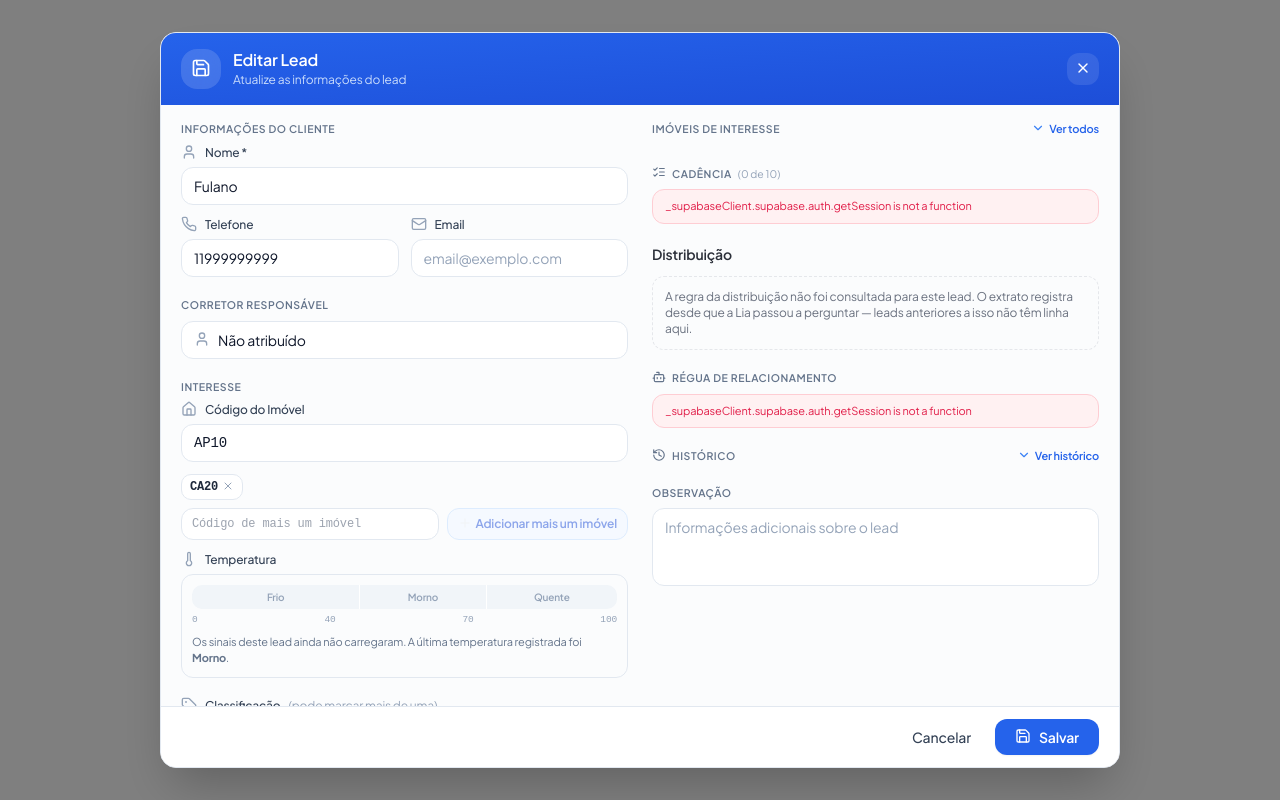
Test: imóveis do lead › um extra pode sair; o principal fica
Click the button named "Remover CA20" at point(228, 487), box [222,482,234,492]
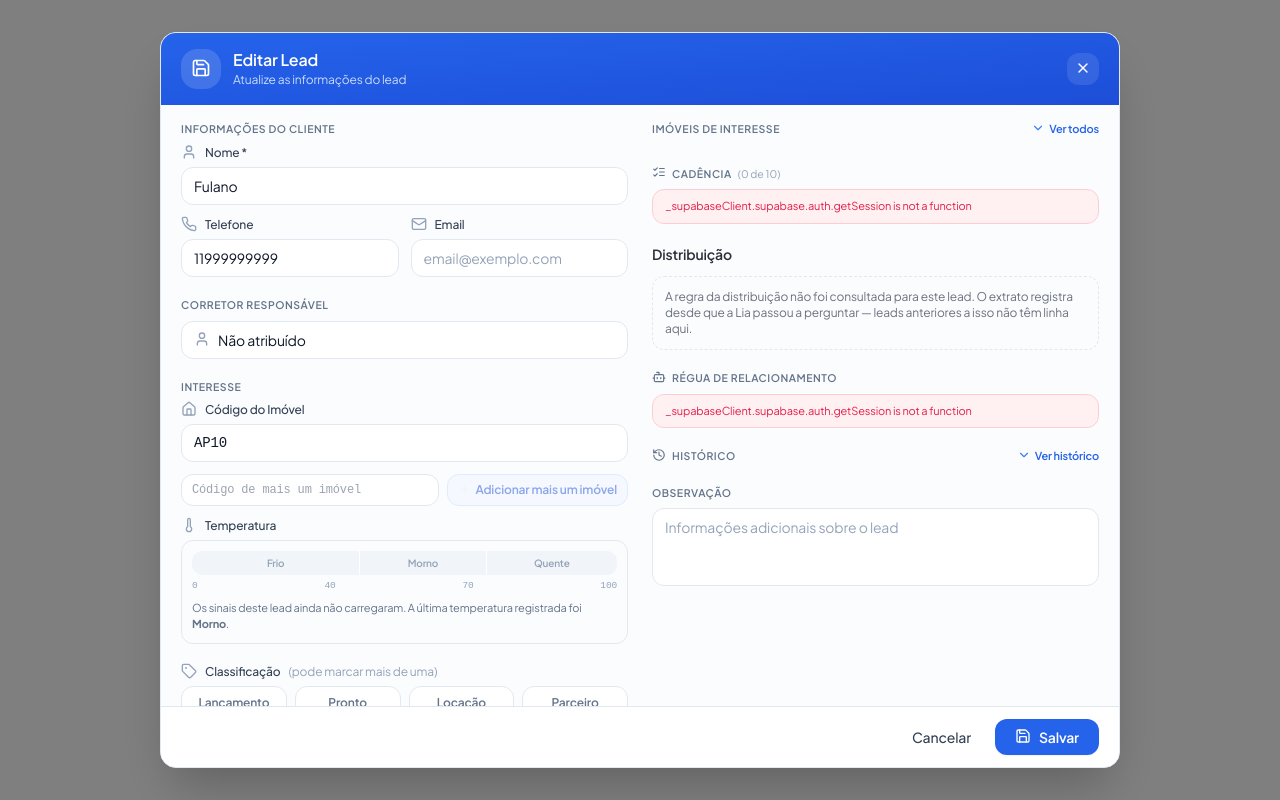
expect the field with placeholder "Ex: AP0929" below "Código do Imóvel" holds "AP10": met, box [181,424,628,462]
expect the text "CA20" is gone: met
